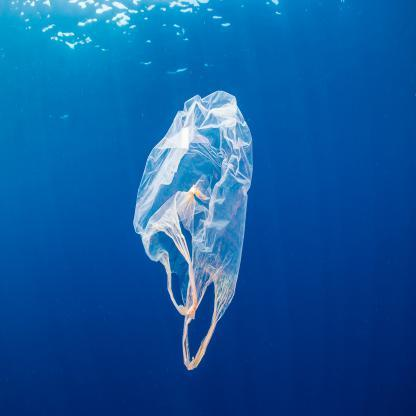Rác: (132, 79, 250, 366)
